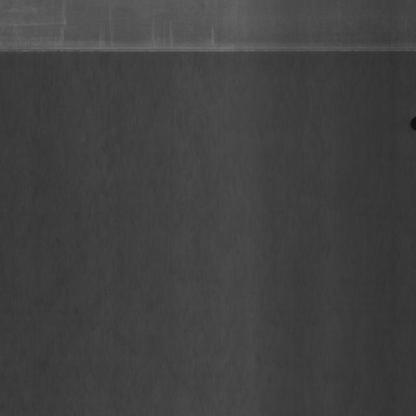punching_hole: (409, 112, 416, 132)
welding_line: (1, 38, 416, 67)
